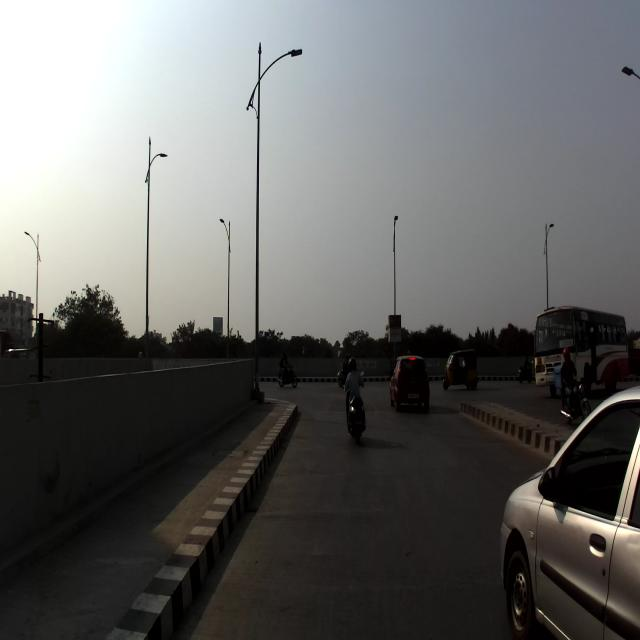car ahead at: (503, 384, 640, 640)
